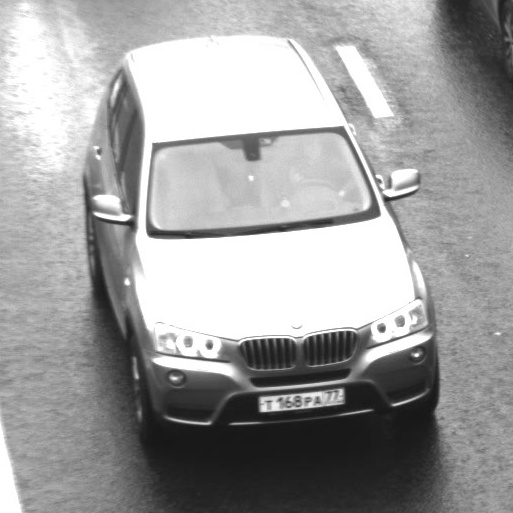plate: (247, 377, 354, 420)
